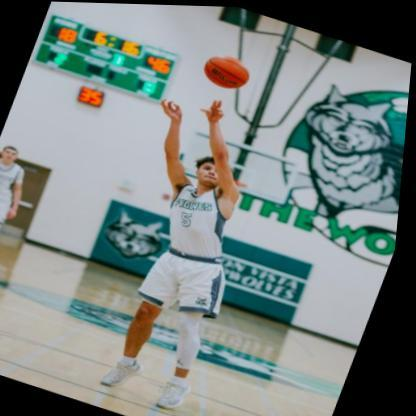basketball: (200, 49, 257, 93)
